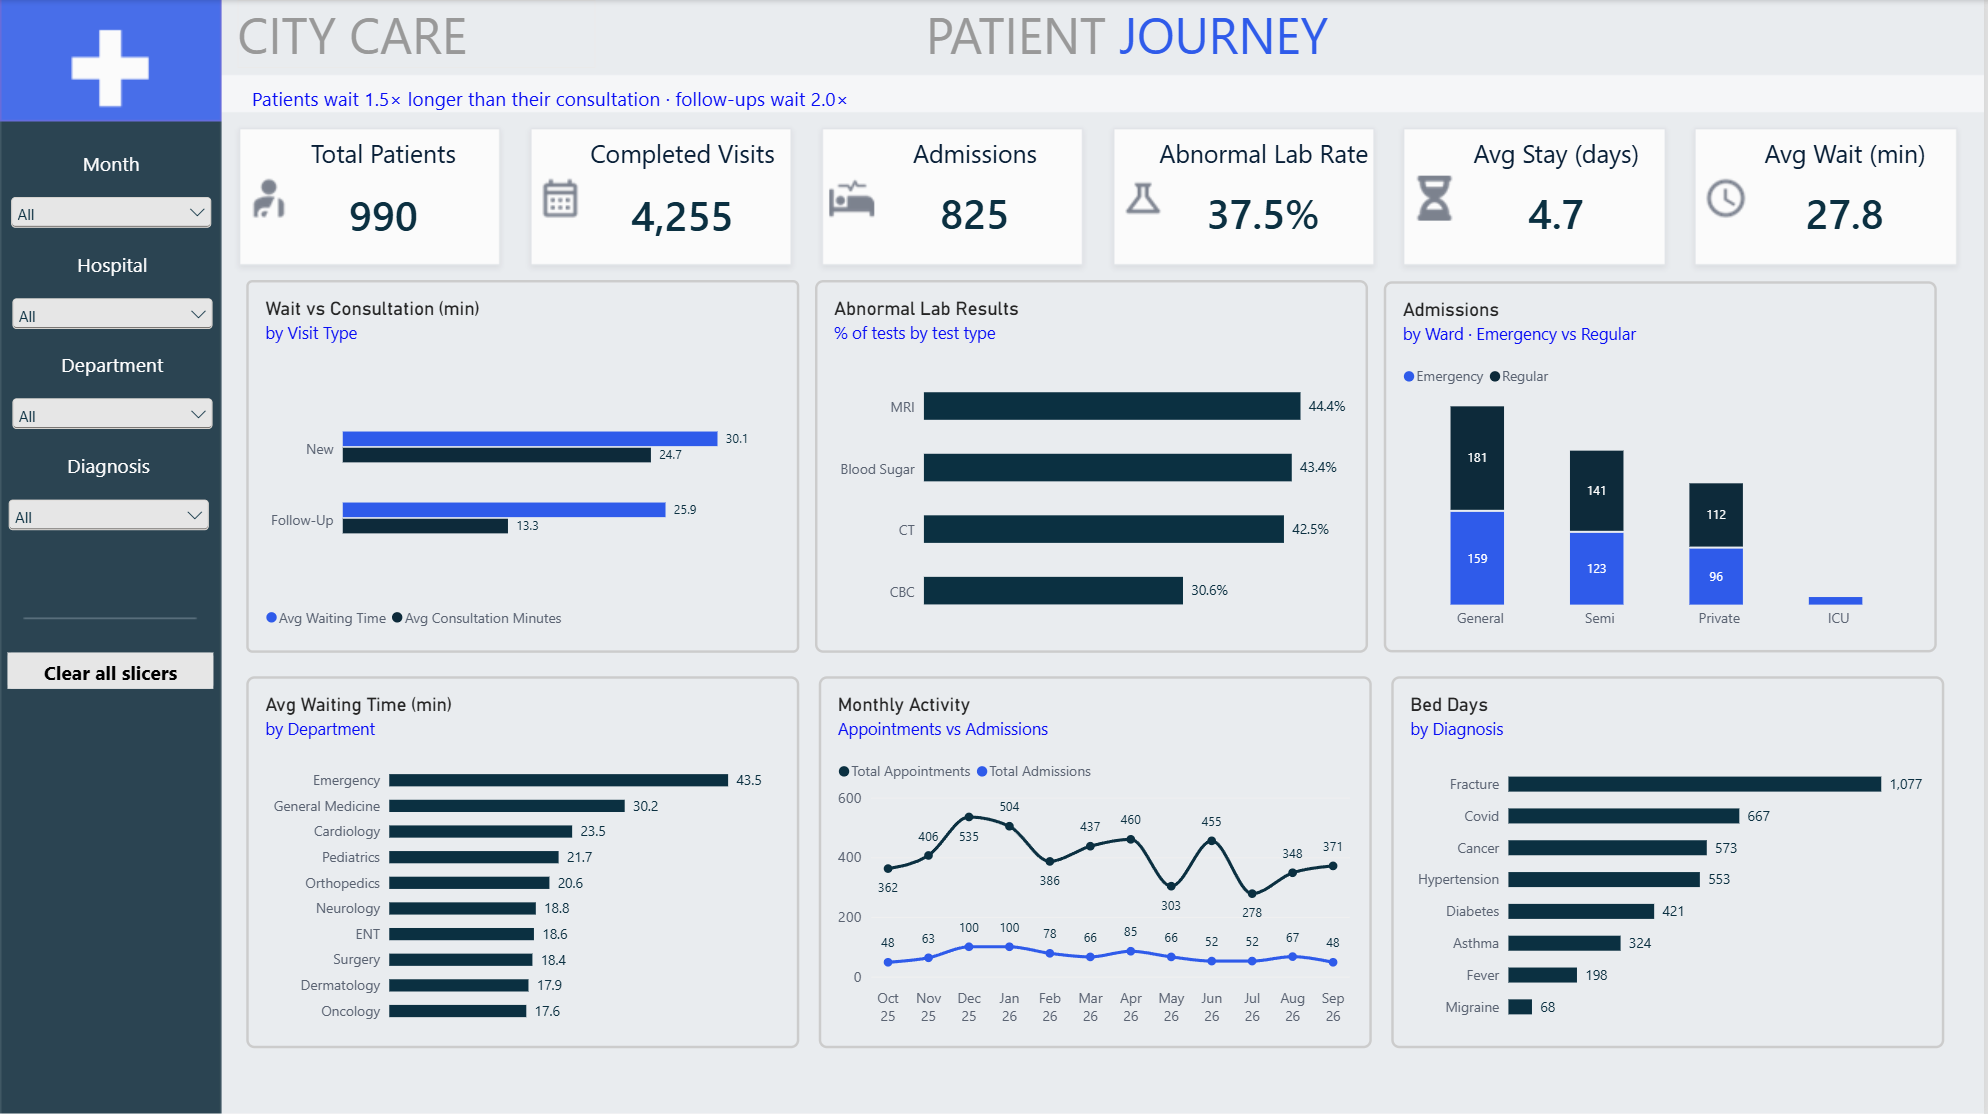

Layout of this report page (visuals, bound fields, positions):
{"tool":"powerbi","page":{"name":"Patient Journey","canvas":[1920,1080],"ordinal":0},"visuals":[{"type":"clusteredBarChart","title":"Wait vs Consultation (min)","fields":{"Category":["Appointments.VisitType"],"Y":["Measures..Avg Waiting Time","Measures..Avg Consultation Minutes"]},"box":[238.3,271,535,360.5],"z":0},{"type":"textbox","box":[810.5,0,560.1,77.4],"z":1000},{"type":"cardVisual","title":"Total Patients","fields":{"Data":["Measures (2).Total Patents"]},"box":[266.1,131.9,210,128],"z":2000},{"type":"cardVisual","title":"Completed Visits","fields":{"Data":["Measures..Completed Visits"]},"box":[555.2,131.9,210.5,128],"z":3000},{"type":"cardVisual","title":"Admissions","fields":{"Data":["Measures (2).Total Admissions"]},"box":[838.3,131.9,210.5,124.6],"z":4000},{"type":"cardVisual","title":"Abnormal Lab Rate","fields":{"Data":["Measures (2).Abnormal Rate"]},"box":[1117.7,131.9,210.5,124.6],"z":5000},{"type":"cardVisual","title":"Avg Stay (days)","fields":{"Data":["Measures (2).Avg Lenght of Stay"]},"box":[1400.8,131.9,210.5,124.6],"z":6000},{"type":"cardVisual","title":"Avg Wait (min)","fields":{"Data":["Measures (2).Avg Waiting Time"]},"box":[1680.2,131.9,210.5,124.6],"z":7000},{"type":"barChart","title":"Avg Waiting Time (min)","fields":{"Category":["Departments.DepartmentName"],"Y":["Measures..Avg Waiting Time"]},"box":[237.8,654.4,535,360],"z":8000},{"type":"lineChart","title":"Monthly Activity ","fields":{"Category":["Date.Year-Month"],"Y":["Measures..Total Appointments","Measures..Total Admissions"]},"box":[792.1,654.4,535,360],"z":9000},{"type":"columnChart","title":"Admissions ","fields":{"Category":["Admissions.Ward"],"Series":["Admissions.AdmissionType"],"Y":["Measures..Total Admissions"]},"box":[1339.1,272.2,535,359.3],"z":10000},{"type":"textbox","box":[705.2,0,770.4,65.1],"z":11000},{"type":"clusteredBarChart","title":"Bed Days","fields":{"Category":["Admissions.Diagnosis"],"Y":["Measures..Total Bed Days Used"]},"box":[1346.4,654.4,535,360],"z":12000},{"type":"clusteredBarChart","title":"Abnormal Lab Results ","fields":{"Category":["LabTests.TestName"],"Y":["Measures..Overall Abnormal Rate"]},"box":[788.7,271,535,360.5],"z":13000},{"type":"slicer","title":"Diagnosis","fields":{"Values":["Admissions.Diagnosis"]},"box":[3.6,437.9,203,78],"z":14000},{"type":"slicer","title":"Hospital","fields":{"Values":["Hospitals.HospitalName"]},"box":[7.3,242.7,203,78],"z":15000},{"type":"slicer","title":"Department","fields":{"Values":["Departments.DepartmentName"]},"box":[7.3,340.3,203,78],"z":16000},{"type":"slicer","title":"Month","fields":{"Values":["Date.Year-Month"]},"box":[5.8,145.2,203,78],"z":17000},{"type":"cardVisual","fields":{"Data":["Measures..Wait Insight"]},"box":[223.8,77.4,1650,34],"z":18000},{"type":"textbox","box":[229.8,0,347.2,65.3],"z":19000},{"type":"actionButton","box":[7.3,631.5,199.6,35.1],"z":20000}]}

Visuals, with their boxes in screenshot pixels (x1, y1, x2, y2), scaled from the page's 1920x1080 canvas onto the 1988x1114 screenshot:
"Wait vs Consultation (min)" clusteredBarChart: Rect(247, 280, 801, 651)
textbox: Rect(839, 0, 1419, 80)
"Total Patients" cardVisual: Rect(276, 136, 493, 268)
"Completed Visits" cardVisual: Rect(575, 136, 793, 268)
"Admissions" cardVisual: Rect(868, 136, 1086, 265)
"Abnormal Lab Rate" cardVisual: Rect(1157, 136, 1375, 265)
"Avg Stay (days)" cardVisual: Rect(1450, 136, 1668, 265)
"Avg Wait (min)" cardVisual: Rect(1740, 136, 1958, 265)
"Avg Waiting Time (min)" barChart: Rect(246, 675, 800, 1046)
"Monthly Activity " lineChart: Rect(820, 675, 1374, 1046)
"Admissions " columnChart: Rect(1387, 281, 1940, 651)
textbox: Rect(730, 0, 1528, 67)
"Bed Days" clusteredBarChart: Rect(1394, 675, 1948, 1046)
"Abnormal Lab Results " clusteredBarChart: Rect(817, 280, 1371, 651)
"Diagnosis" slicer: Rect(4, 452, 214, 532)
"Hospital" slicer: Rect(8, 250, 218, 331)
"Department" slicer: Rect(8, 351, 218, 431)
"Month" slicer: Rect(6, 150, 216, 230)
cardVisual - Measures..Wait Insight: Rect(232, 80, 1940, 115)
textbox: Rect(238, 0, 597, 67)
actionButton: Rect(8, 651, 214, 688)
